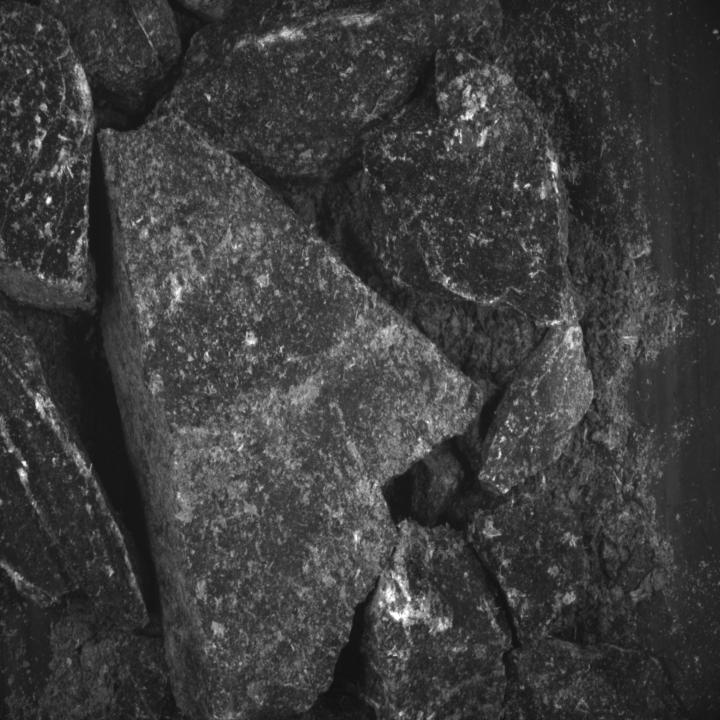stone: (99, 111, 478, 720), (146, 0, 502, 187), (356, 48, 582, 324), (0, 309, 147, 631), (0, 0, 101, 314), (360, 518, 511, 719), (478, 322, 594, 494), (468, 490, 600, 639), (48, 0, 184, 111), (503, 641, 688, 719), (410, 448, 462, 524)
